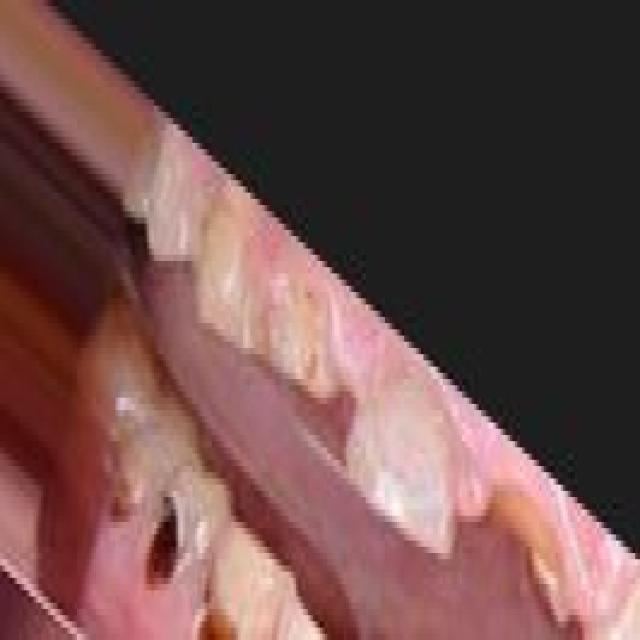caries: (269, 267, 341, 414), (149, 462, 222, 606), (488, 469, 564, 593)
